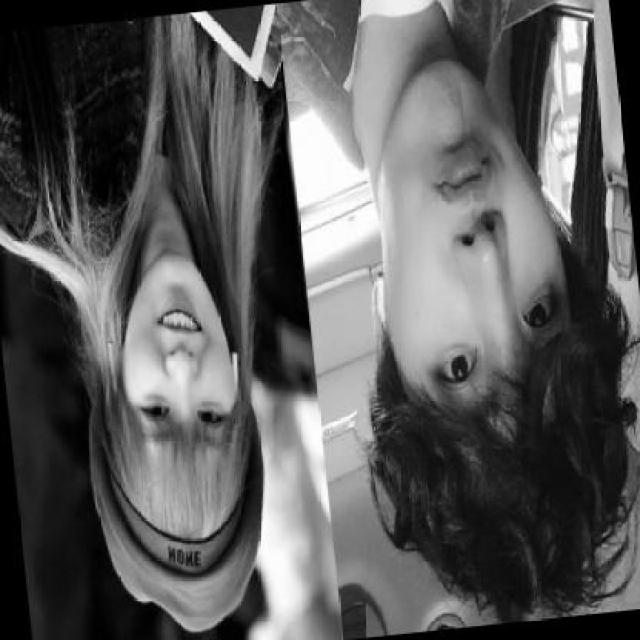earphone: (351, 267, 405, 352), (538, 174, 602, 241), (101, 326, 133, 386), (226, 340, 260, 386)
